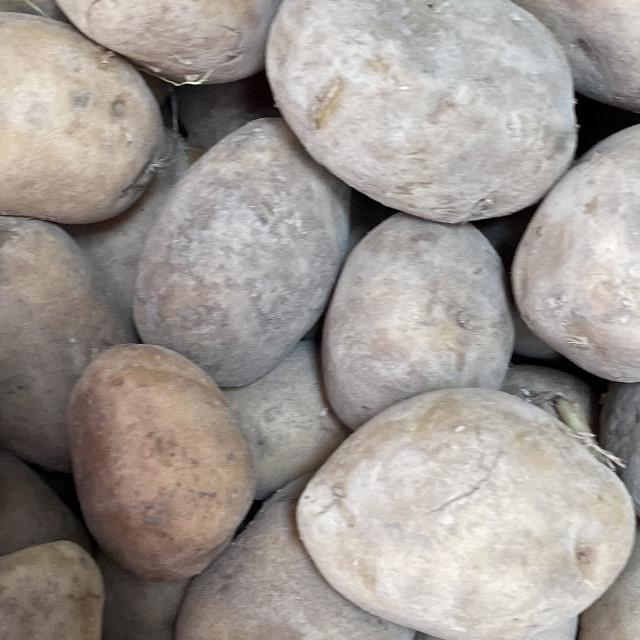potato: (275, 352, 640, 640), (262, 0, 582, 227), (30, 318, 282, 578), (0, 0, 187, 250), (490, 77, 640, 382)
